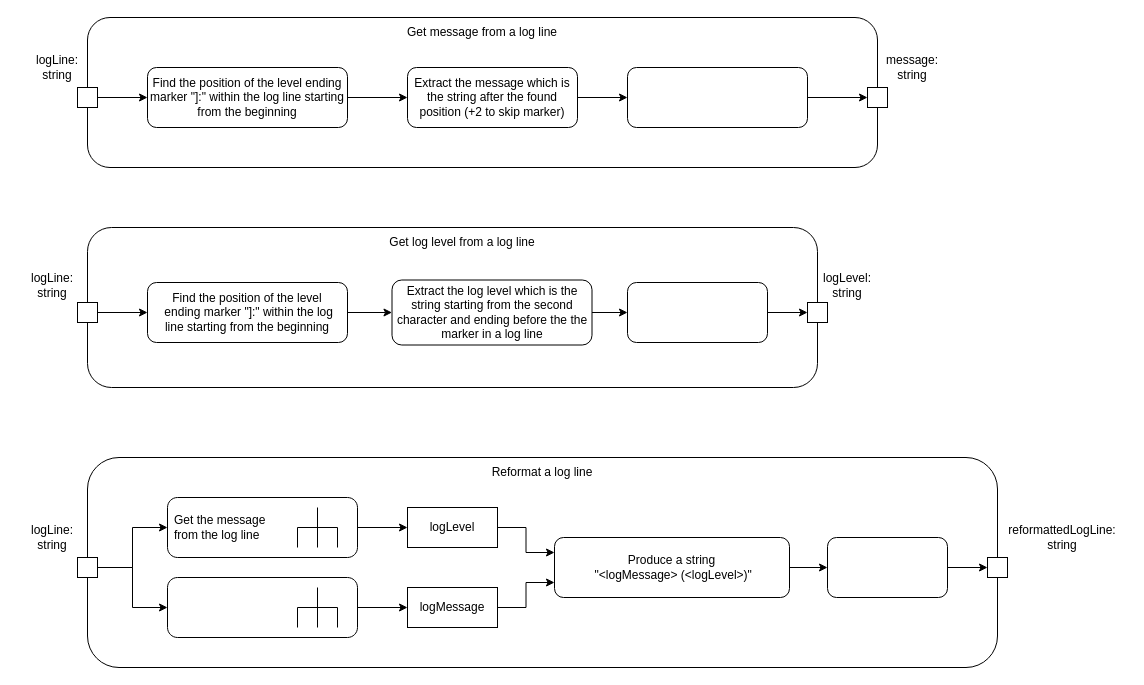
The diagram is 1144 pixels wide and 685 high, and some of its shapes have lost their labels. Each missing label, with the centre of its shape:
Convert to lowercase and return it: the point at 697,312
Get the error level from the log line: the point at 262,607
Return generated string: the point at 887,567
Return that string with whitespaces stripped: the point at 717,97
